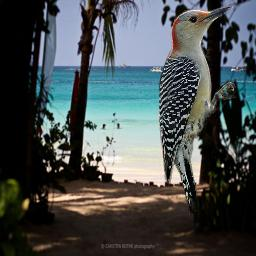Woodpecker: (159, 1, 238, 224)
